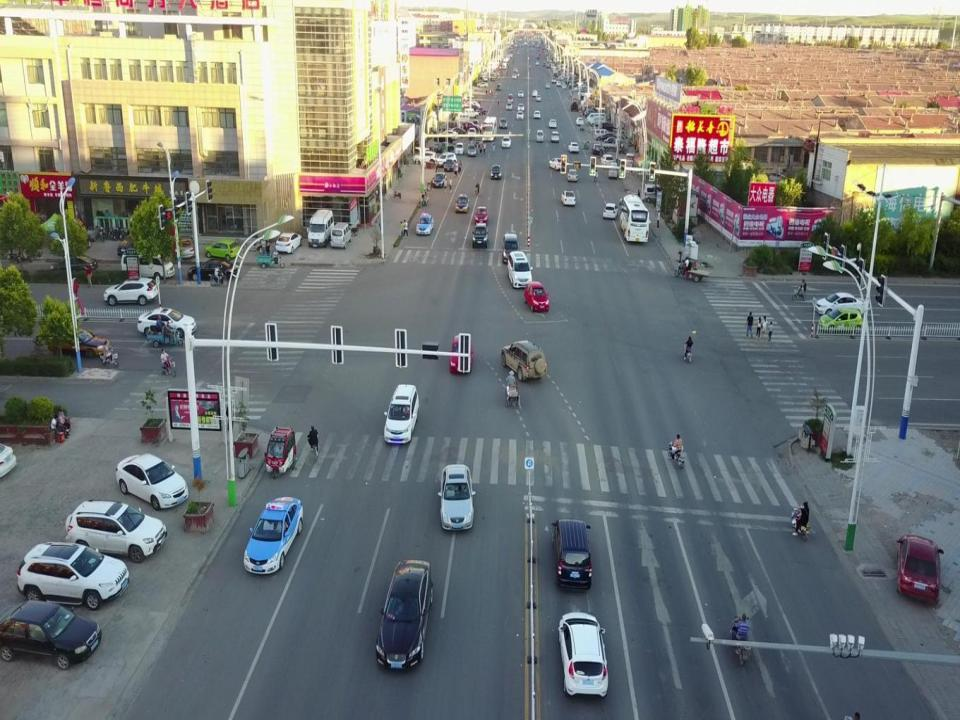bus: (618, 193, 650, 244), (480, 115, 498, 141)
car: (16, 541, 131, 613), (0, 601, 103, 671), (64, 498, 168, 566), (375, 558, 434, 674), (242, 495, 305, 577), (558, 610, 610, 700), (114, 452, 190, 512), (896, 534, 944, 602), (550, 518, 594, 591), (438, 464, 476, 534), (382, 382, 421, 444), (137, 302, 199, 338), (499, 339, 547, 383), (46, 328, 110, 358), (102, 277, 160, 307), (815, 291, 868, 317), (186, 258, 238, 284), (47, 256, 99, 280), (818, 307, 863, 334), (118, 235, 166, 259), (506, 250, 534, 289), (203, 239, 240, 263), (523, 280, 549, 312), (274, 231, 303, 255), (177, 235, 196, 260), (472, 222, 489, 249), (415, 213, 434, 235), (434, 151, 458, 168), (412, 150, 437, 166), (454, 193, 470, 213), (602, 202, 618, 220), (560, 189, 576, 207), (475, 206, 489, 226), (432, 172, 448, 188), (461, 122, 479, 134), (448, 127, 466, 138), (600, 154, 614, 168), (548, 158, 564, 170), (490, 164, 502, 180), (463, 107, 479, 119), (440, 130, 458, 140), (434, 133, 453, 142), (567, 168, 578, 182), (601, 132, 618, 141), (567, 142, 579, 154), (454, 142, 464, 155), (444, 159, 454, 172), (467, 144, 477, 157), (591, 143, 602, 154), (550, 131, 560, 143), (501, 136, 511, 148), (467, 127, 477, 138), (548, 119, 557, 129), (499, 118, 508, 128), (516, 111, 524, 121), (576, 117, 584, 126), (533, 110, 541, 119), (516, 104, 524, 112), (505, 102, 512, 110), (517, 90, 524, 98), (508, 94, 513, 103), (532, 89, 538, 96), (536, 95, 541, 102)
truck: (601, 138, 622, 152)
van: (119, 251, 175, 284), (306, 208, 335, 248), (330, 222, 353, 250), (502, 234, 521, 264), (643, 184, 670, 204), (592, 128, 611, 140), (586, 113, 606, 123), (625, 152, 636, 170), (442, 120, 459, 131), (608, 162, 618, 180), (454, 113, 469, 124), (590, 116, 606, 126), (536, 129, 544, 143)
